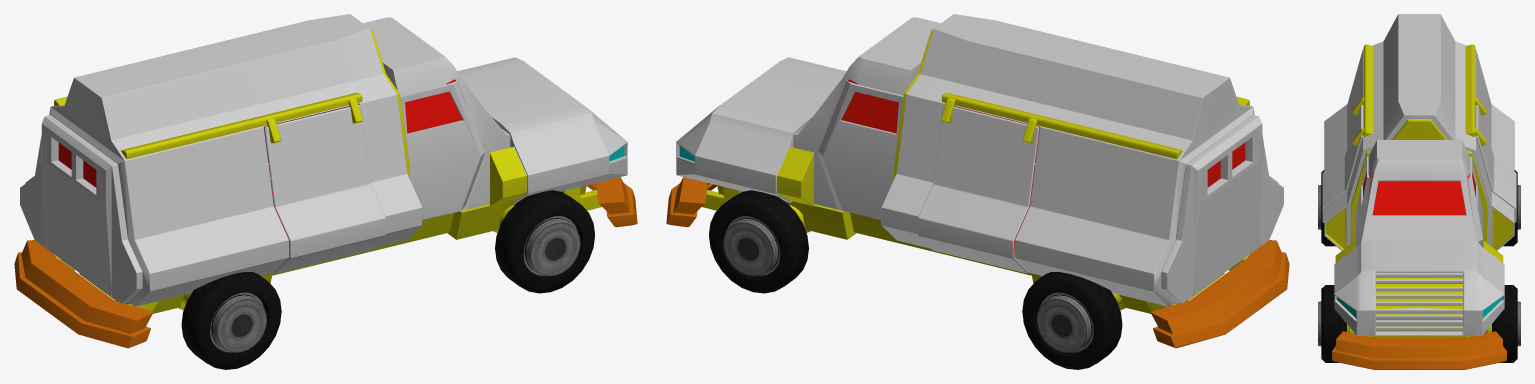
Rendered from SM_CivilianUtilityTruck2.fbx.
3 renders of one model, left to right at view 1: azimuth 30°, elevation 25°; view 2: azimuth 150°, elevation 25°; view 3: azimuth 270°, elevation 25°, orthographic. The views are drawn at different scales.
Parts seen in each view (by area): view 1: MainBodyMesh, SideDoorMesh, WheelMesh, MainBodyMesh.001, CabinDoorMesh, CabinMesh, GlassMeshes; view 2: MainBodyMesh, SideDoorMesh, WheelMesh, MainBodyMesh.001, CabinDoorMesh, CabinMesh, GlassMeshes; view 3: MainBodyMesh, CabinMesh, SideDoorMesh, WheelMesh, FrontGlass, CabinDoorMesh.
Boxes of the visible parts, x1,y1,x2,y2 form: MainBodyMesh: [14, 14, 637, 348]; SideDoorMesh: [54, 93, 385, 273]; WheelMesh: [181, 190, 594, 369]; MainBodyMesh.001: [20, 115, 142, 303]; CabinDoorMesh: [400, 81, 485, 219]; CabinMesh: [363, 17, 510, 220]; GlassMeshes: [58, 92, 462, 187]; MainBodyMesh: [666, 14, 1289, 348]; SideDoorMesh: [918, 93, 1249, 273]; WheelMesh: [709, 190, 1122, 369]; MainBodyMesh.001: [1161, 115, 1283, 303]; CabinDoorMesh: [818, 81, 903, 219]; CabinMesh: [793, 17, 940, 220]; GlassMeshes: [841, 92, 1245, 187]; MainBodyMesh: [1324, 14, 1514, 369]; CabinMesh: [1361, 140, 1477, 241]; SideDoorMesh: [1322, 44, 1516, 222]; WheelMesh: [1318, 170, 1520, 362]; FrontGlass: [1372, 182, 1466, 215]; CabinDoorMesh: [1355, 156, 1483, 247].
Size of the model in its own units: 519 by 215 by 229.
